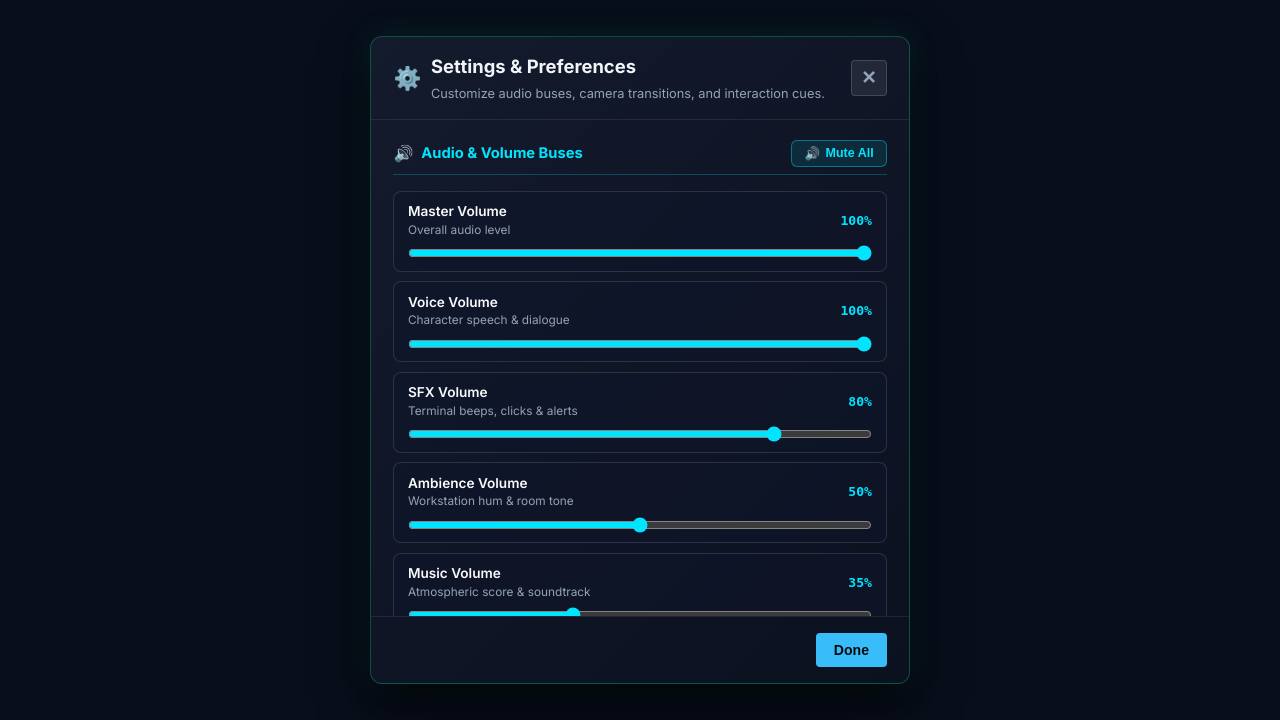
Test: WorkstationSettingsModal Component › updates audio bus volume in audioManager when slider changes
Set the slider with test id "setting-audio-music" to "0.75": {"x": 752, "y": 615} [408, 607, 872, 623]
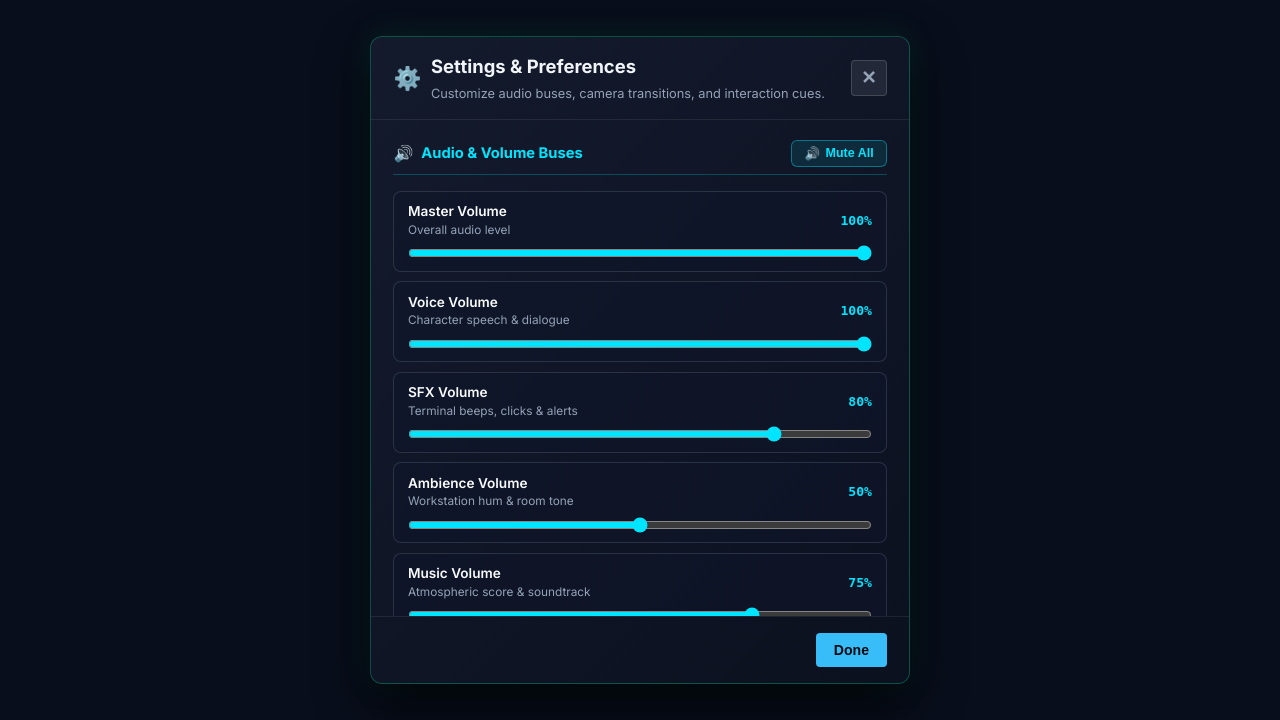
Check: the text "75%" is shown, box [848, 575, 872, 590]
